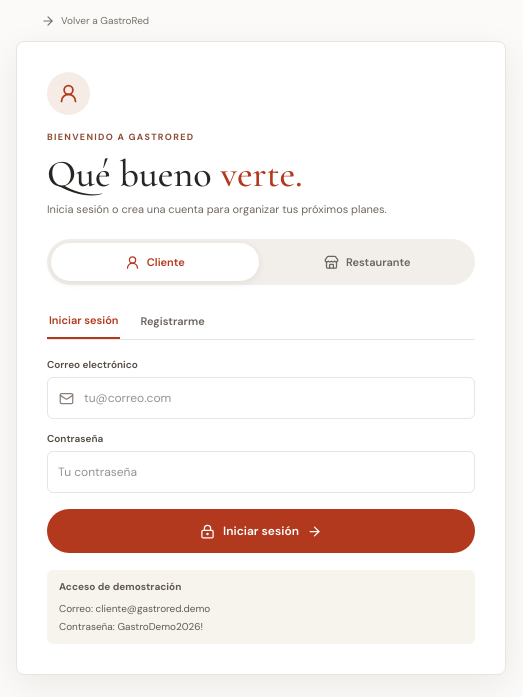
Test: account login page › lets the seeded demo customer sign in with the documented credentials
Type "cliente@gastrored.demo" into the field labelled "Correo electrónico".
click(261, 398); type("cliente@gastrored.demo")  # box x1=47 y1=377 x2=475 y2=419
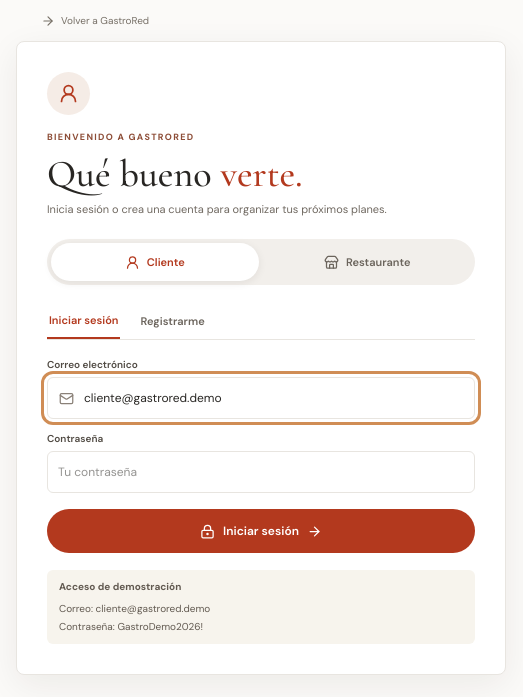
Type "GastroDemo2026!" into the password field labelled "Contraseña".
click(261, 472); type("GastroDemo2026!")  # box x1=47 y1=451 x2=475 y2=493
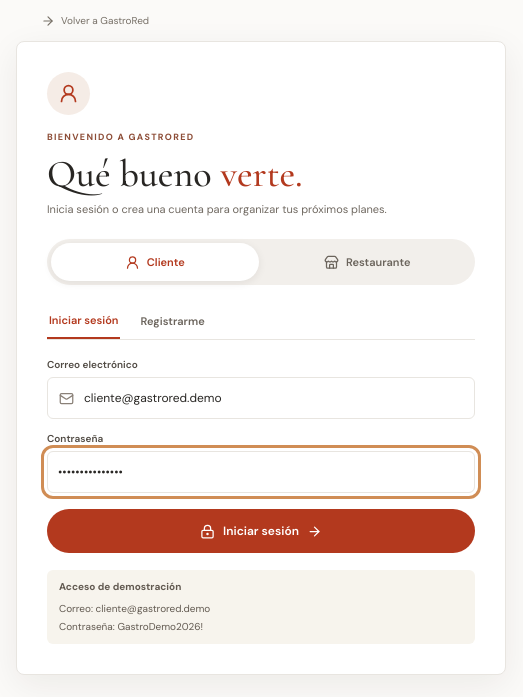
Click the button "Iniciar sesión" below "Correo electrónico".
click(261, 531)  # box x1=47 y1=509 x2=475 y2=553
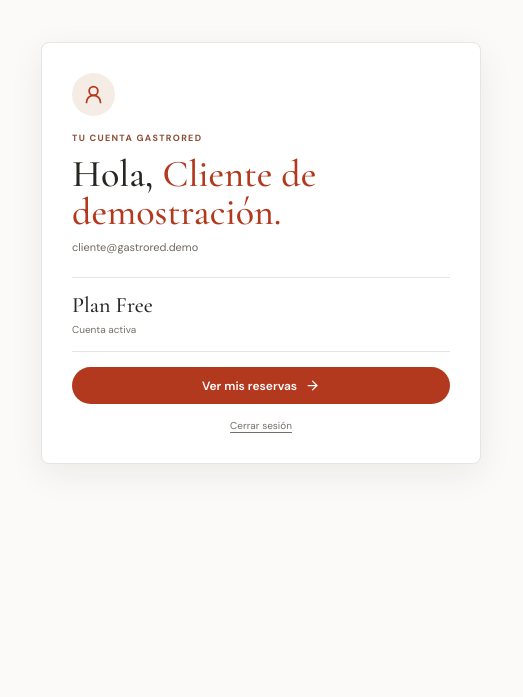
Result: the text "cliente@gastrored.demo" is shown at x1=72 y1=240 x2=198 y2=254
Result: the text "Plan Free" is shown at x1=72 y1=292 x2=153 y2=318
